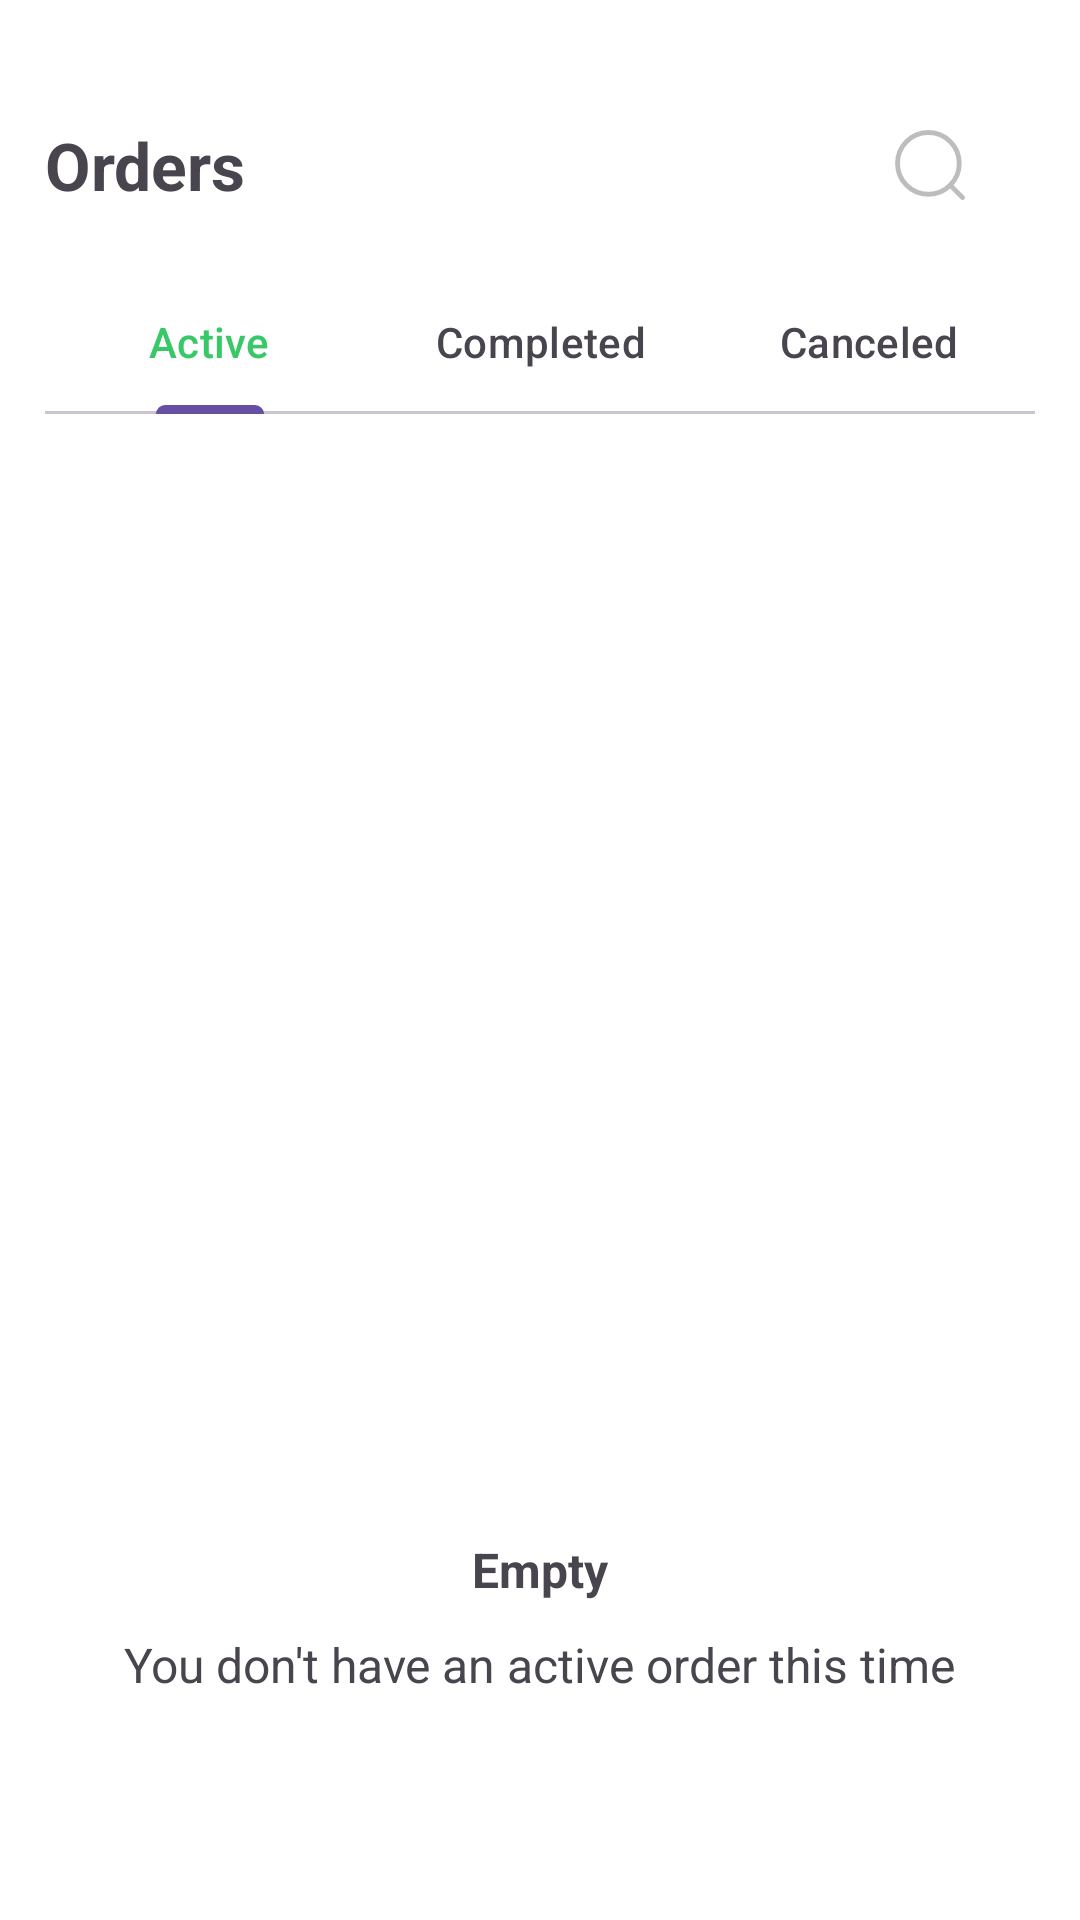

Icons on this 1080px×1920px Android screen, each with the point to tap as (x=x, y=y):
search: (x=930, y=165)
